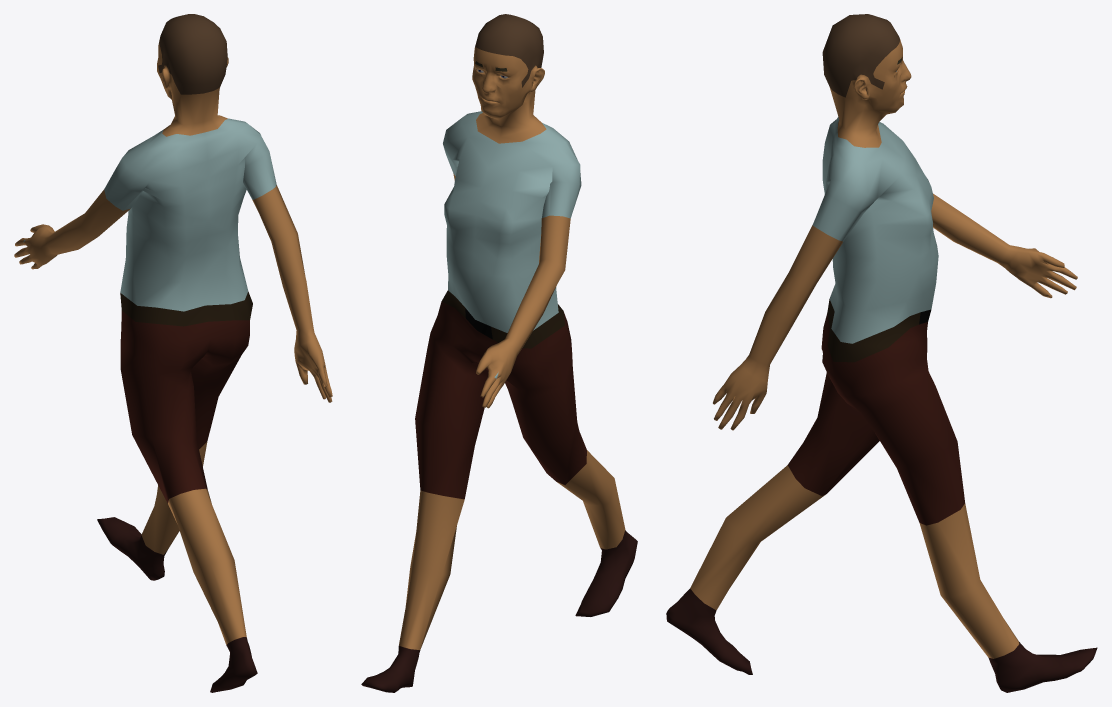
Rendered from person2_000005.obj.
The picture shows the model from 3 angles, left to right: view 1: azimuth 30°, elevation 25°; view 2: azimuth 150°, elevation 25°; view 3: azimuth 270°, elevation 25°; orthographic projection. The views are drawn at different scales.
Visible parts, largest first — view 1: Cube; view 2: Cube; view 3: Cube.
Boxes of the visible parts, left/top/right/bottom form: Cube: left=14, top=14, right=332, bottom=692; Cube: left=361, top=14, right=637, bottom=692; Cube: left=666, top=14, right=1097, bottom=692.
Size of the model in its own units: 24.87 by 92.87 by 54.56.
